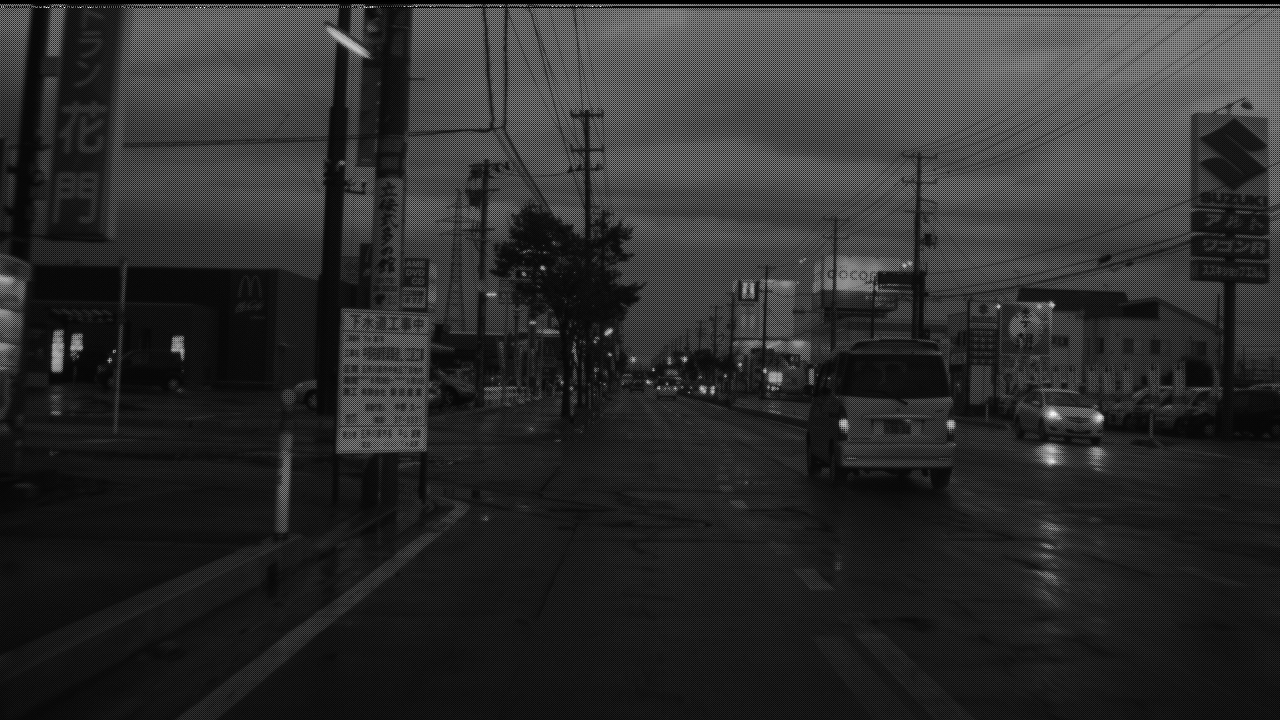pole: (364, 5, 414, 503), (316, 7, 352, 412), (475, 156, 489, 405), (1222, 282, 1236, 440), (911, 154, 922, 338), (830, 215, 839, 351)
